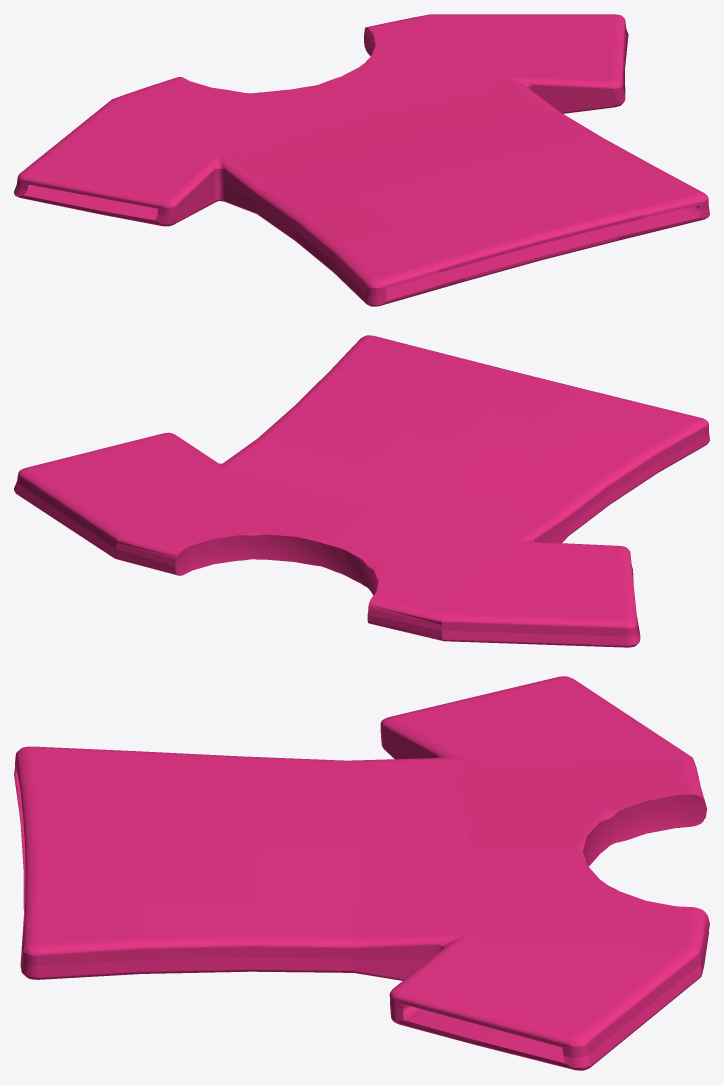
File: SHIRT.fbx
3 views of the same model, one above another, from view 1: azimuth 30°, elevation 25°; view 2: azimuth 150°, elevation 25°; view 3: azimuth 270°, elevation 25° (orthographic). The views are drawn at different scales.
Parts seen in each view (by area): view 1: Cube.003; view 2: Cube.003; view 3: Cube.003.
Part boxes in pixels (box(x1,y1,x2,y2)): Cube.003: box(14, 14, 709, 306); Cube.003: box(14, 335, 709, 647); Cube.003: box(14, 676, 709, 1070).
Bounding box in the file's own units: 214 × 15.04 × 164.
